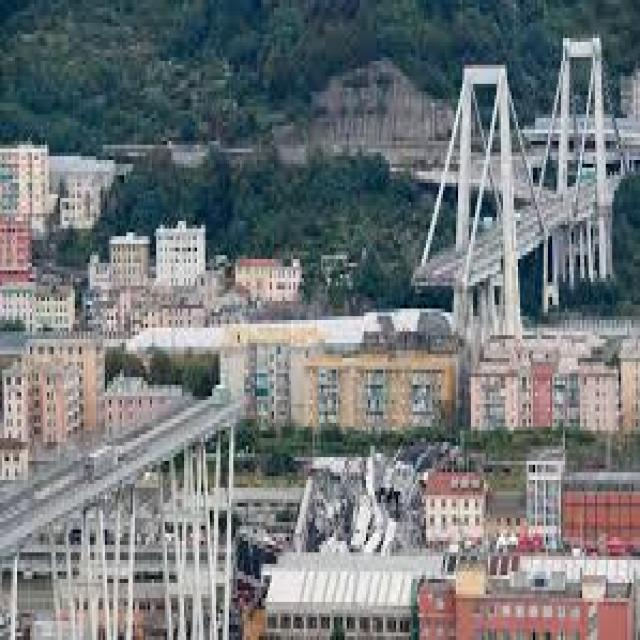bridge collapse: (105, 205, 534, 544)
